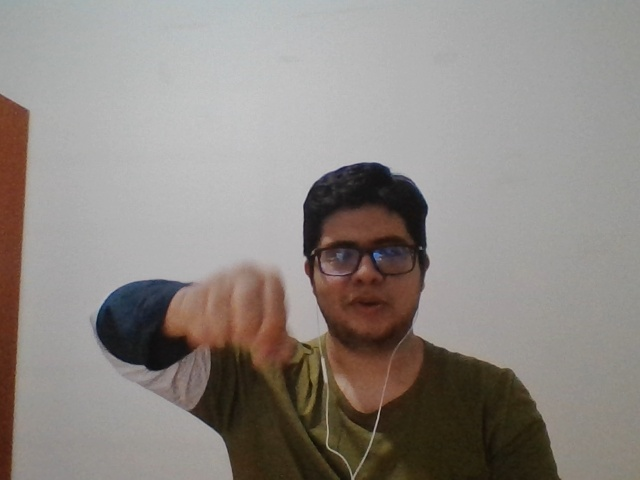Yes: (168, 246, 299, 377)
